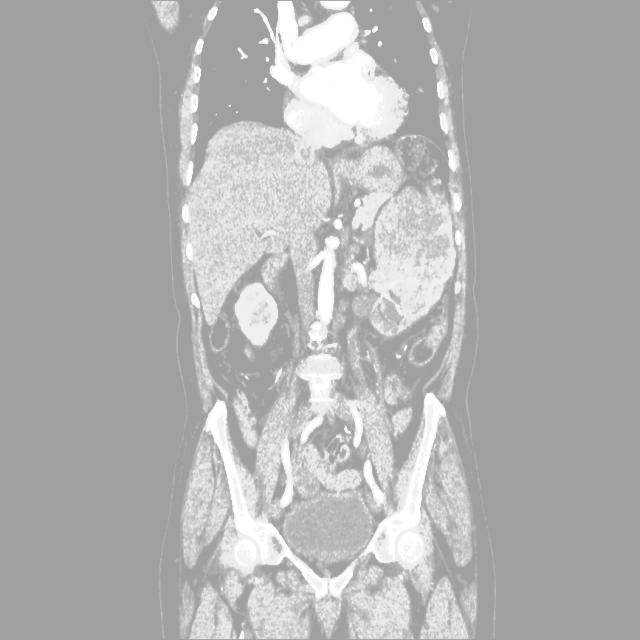TUMOR: (121, 188, 481, 365)
